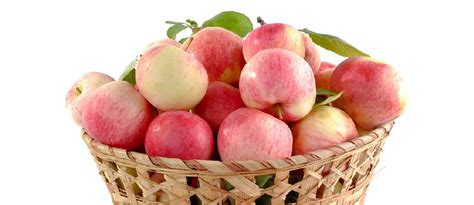apple: (236, 48, 320, 128), (134, 40, 211, 113)
